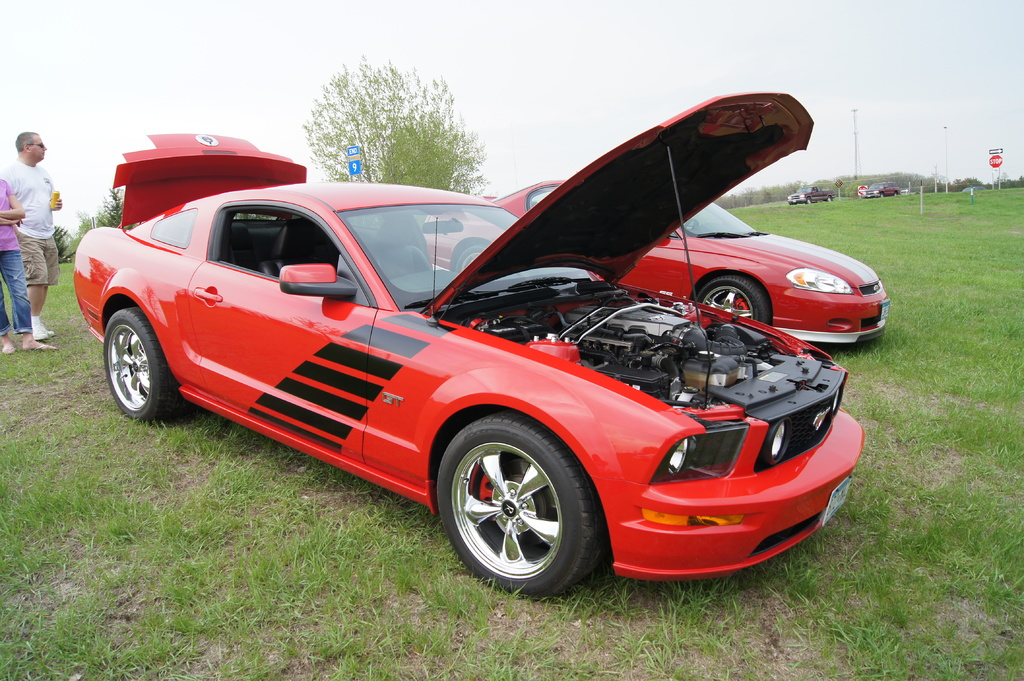Car: (69, 93, 865, 590), (419, 172, 896, 343)
